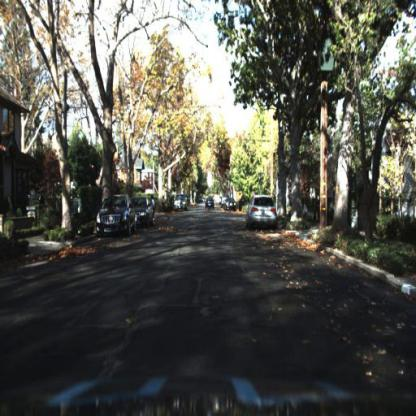car: (93, 187, 138, 242), (243, 190, 282, 235), (135, 193, 156, 236), (130, 196, 155, 224), (172, 197, 188, 214), (224, 197, 239, 215), (203, 196, 217, 212), (225, 199, 238, 215)
